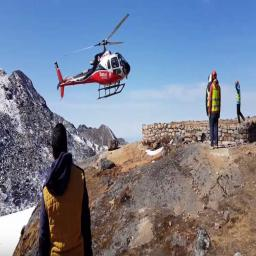helicopter: (54, 12, 133, 103)
